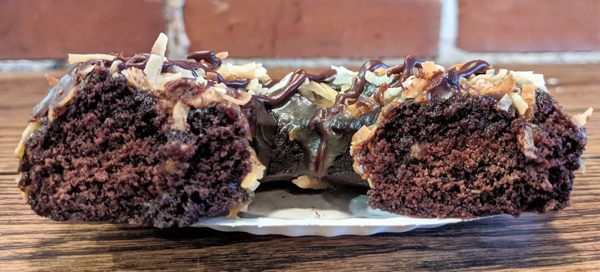burger: (151, 1, 192, 62)
